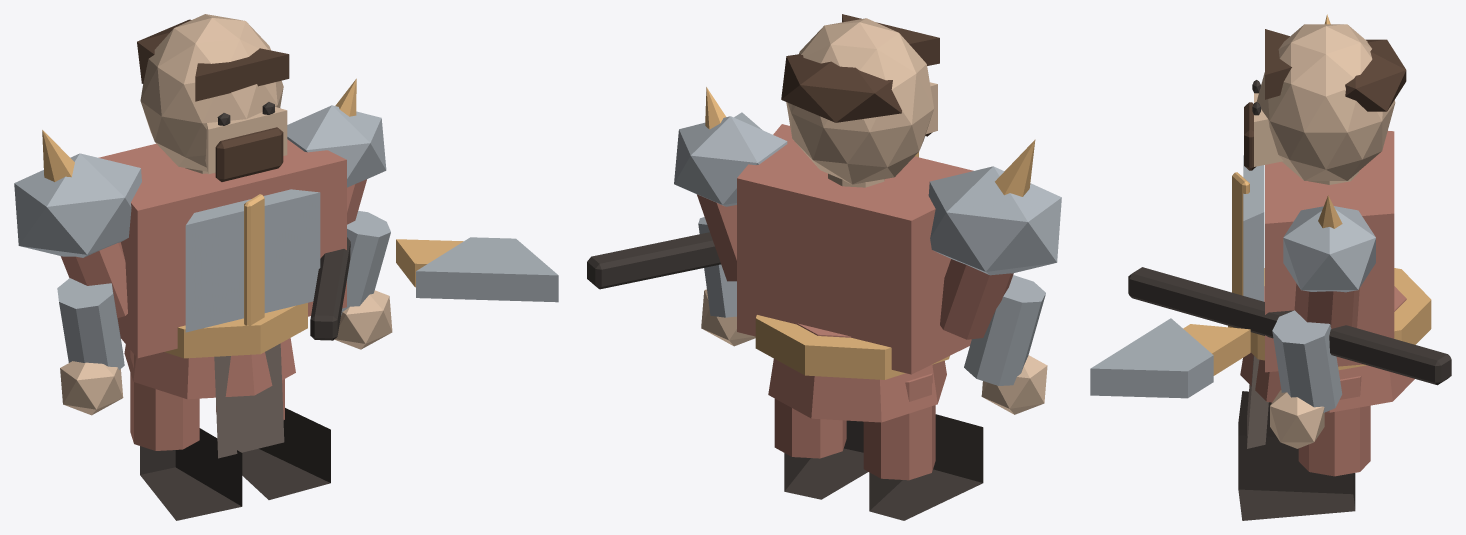
File: minihero-warrior-v2.glb
3 renders of one model, left to right at view 1: azimuth 30°, elevation 25°; view 2: azimuth 150°, elevation 25°; view 3: azimuth 270°, elevation 25°, orthographic. The views are drawn at different scales.
Visible parts, largest first — view 1: torso, breastplate, head, pauldron_left, axe_blade, boot_-1, hips, boot_1, tabard, pauldron_right, forearm_-1, belt (+13 smaller); view 2: torso, head, pauldron_left, hips, boot_-1, pauldron_right, belt, hair_back, forearm_-1, thigh_-1, axe_handle, upperarm_-1 (+8 smaller); view 3: head, torso, axe_handle, boot_1, axe_blade, pauldron_right, forearm_1, thigh_1, hips, breastplate, hair_back, belt (+10 smaller).
Boxes of the visible parts, x1=… form: torso: x1=98, y1=139, x2=346, y2=358; breastplate: x1=185, y1=189, x2=320, y2=332; head: x1=140, y1=14, x2=283, y2=172; pauldron_left: x1=14, y1=153, x2=141, y2=257; axe_blade: x1=416, y1=237, x2=558, y2=302; boot_-1: x1=140, y1=428, x2=242, y2=520; hips: x1=124, y1=338, x2=295, y2=399; boot_1: x1=242, y1=408, x2=330, y2=499; tabard: x1=214, y1=343, x2=284, y2=458; pauldron_right: x1=287, y1=105, x2=386, y2=187; forearm_-1: x1=57, y1=278, x2=124, y2=369; belt: x1=165, y1=303, x2=307, y2=358; torso: x1=737, y1=124, x2=973, y2=374; head: x1=786, y1=18, x2=933, y2=184; pauldron_left: x1=928, y1=166, x2=1061, y2=275; hips: x1=768, y1=323, x2=946, y2=422; boot_-1: x1=869, y1=414, x2=983, y2=520; pauldron_right: x1=674, y1=116, x2=787, y2=206; belt: x1=755, y1=315, x2=949, y2=379; hair_back: x1=781, y1=54, x2=901, y2=122; forearm_-1: x1=964, y1=275, x2=1045, y2=385; thigh_-1: x1=863, y1=373, x2=935, y2=480; axe_handle: x1=587, y1=232, x2=720, y2=289; upperarm_-1: x1=940, y1=259, x2=1013, y2=339; head: x1=1256, y1=24, x2=1395, y2=180; torso: x1=1265, y1=131, x2=1394, y2=372; axe_handle: x1=1128, y1=267, x2=1451, y2=385; boot_1: x1=1238, y1=435, x2=1355, y2=520; axe_blade: x1=1090, y1=318, x2=1213, y2=398; pauldron_right: x1=1283, y1=206, x2=1375, y2=292; forearm_1: x1=1272, y1=310, x2=1342, y2=412; thigh_1: x1=1298, y1=376, x2=1370, y2=476; hips: x1=1240, y1=286, x2=1414, y2=412; breastplate: x1=1243, y1=155, x2=1264, y2=301; hair_back: x1=1345, y1=39, x2=1406, y2=111; belt: x1=1228, y1=268, x2=1431, y2=369.
Bounding box in the file's own units: 2 × 2.03 × 1.45.
